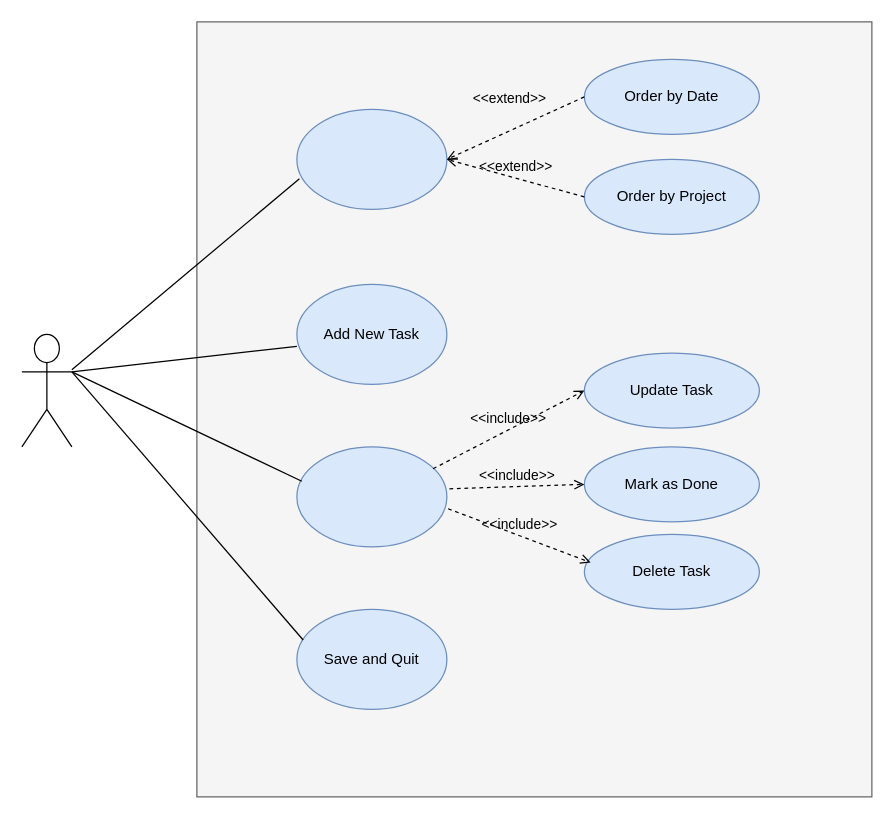
Some shapes in this 894 by 819 pixel diagram are drawn without their labels. The centre of each missing label's shape, as x and y in pixels:
Display Task List: pixel 371 158
Edit Task: pixel 371 496
User: pixel 46 390
